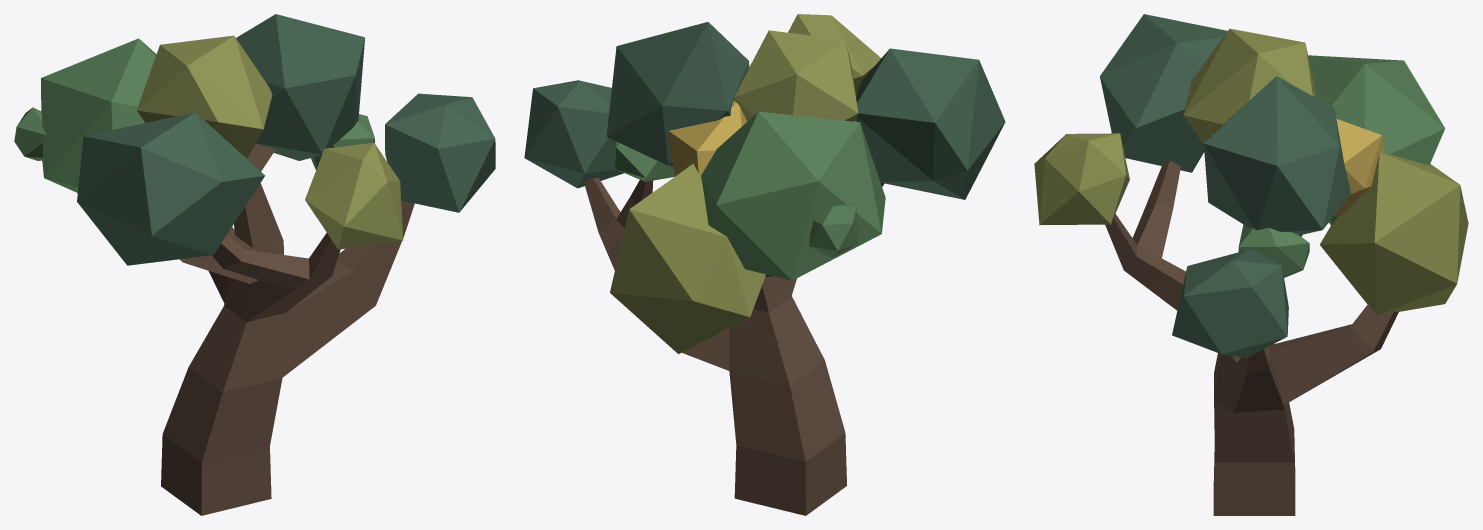
Rendered from tree0_2.fbx.
3 views of the same model, side by side, from view 1: azimuth 30°, elevation 25°; view 2: azimuth 150°, elevation 25°; view 3: azimuth 270°, elevation 25° (orthographic).
Visible parts, largest first — view 1: trunk, Icosphere.018, Icosphere.016, Icosphere.023, Icosphere.017, Icosphere.021, Icosphere.019, Icosphere.025, Icosphere.022; view 2: trunk, Icosphere.021, Icosphere.020, Icosphere.018, Icosphere.016, Icosphere.017, Icosphere.023, Icosphere.024, Icosphere.019, Icosphere.025, Icosphere.022; view 3: trunk, Icosphere.016, Icosphere.020, Icosphere.018, Icosphere.023, Icosphere.021, Icosphere.017, Icosphere.019, Icosphere.024, Icosphere.022.
Part boxes in pixels (x1,y1,x2,y2): trunk: (161, 144, 414, 515); Icosphere.018: (77, 112, 265, 265); Icosphere.016: (236, 14, 364, 160); Icosphere.023: (385, 93, 495, 212); Icosphere.017: (137, 35, 272, 158); Icosphere.021: (41, 38, 156, 192); Icosphere.019: (305, 142, 403, 249); Icosphere.025: (14, 107, 46, 160); Icosphere.022: (311, 114, 374, 169); trunk: (584, 178, 884, 515); Icosphere.021: (701, 111, 885, 280); Icosphere.020: (610, 164, 765, 353); Icosphere.018: (854, 48, 1005, 199); Icosphere.016: (606, 22, 749, 166); Icosphere.017: (734, 30, 858, 121); Icosphere.023: (524, 80, 624, 188); Icosphere.024: (668, 101, 746, 176); Icosphere.019: (788, 14, 881, 96); Icosphere.025: (809, 205, 858, 257); Icosphere.022: (614, 141, 674, 181); trunk: (1105, 161, 1398, 515); Icosphere.016: (1203, 76, 1350, 235); Icosphere.020: (1319, 152, 1468, 315); Icosphere.018: (1100, 14, 1227, 172); Icosphere.023: (1172, 249, 1288, 357); Icosphere.021: (1308, 55, 1444, 225); Icosphere.017: (1183, 28, 1316, 144); Icosphere.019: (1034, 133, 1129, 225); Icosphere.024: (1334, 119, 1384, 216); Icosphere.022: (1238, 224, 1309, 277).
Bounding box in the file's own units: 1024 × 1057 × 910.
